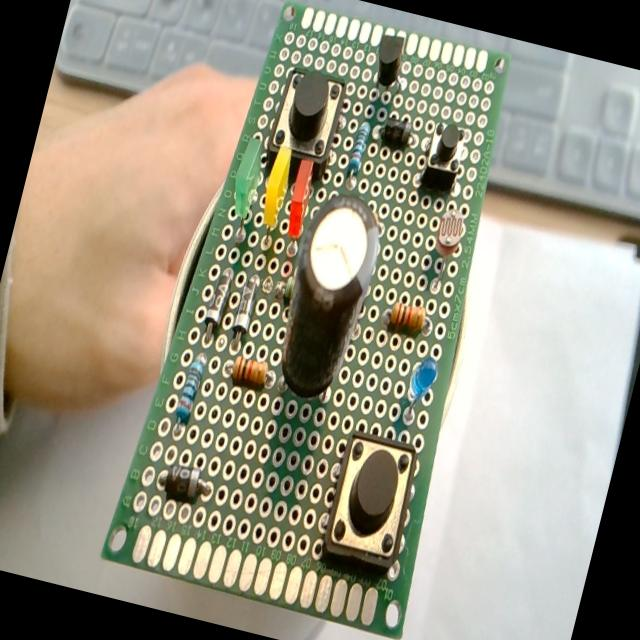Electrolytic capacitor: (264, 185, 390, 406)
cds: (423, 206, 469, 294)
diode: (200, 264, 236, 339), (228, 271, 262, 343), (160, 462, 214, 506), (380, 114, 414, 148)
led: (220, 132, 270, 240), (256, 143, 297, 232), (280, 155, 318, 240), (400, 354, 440, 427)
resistor: (172, 352, 208, 426), (346, 120, 372, 174), (387, 300, 427, 335), (228, 354, 268, 388), (282, 276, 296, 300)
switch: (318, 426, 424, 574), (262, 64, 348, 178), (418, 118, 468, 192)
transistor: (370, 30, 408, 90)
